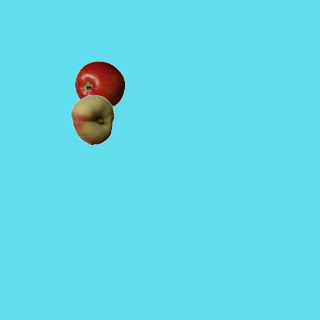Apple Braeburn: (74, 60, 124, 110)
Peach Flat: (67, 94, 117, 144)
